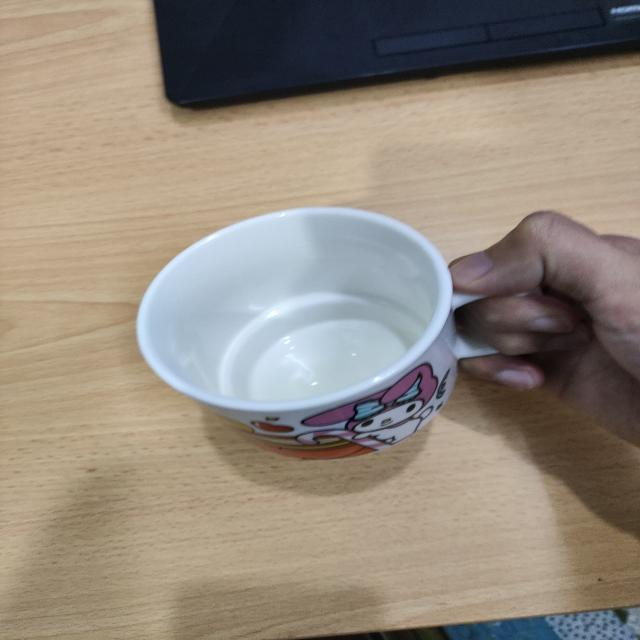cup: (108, 196, 512, 470)
